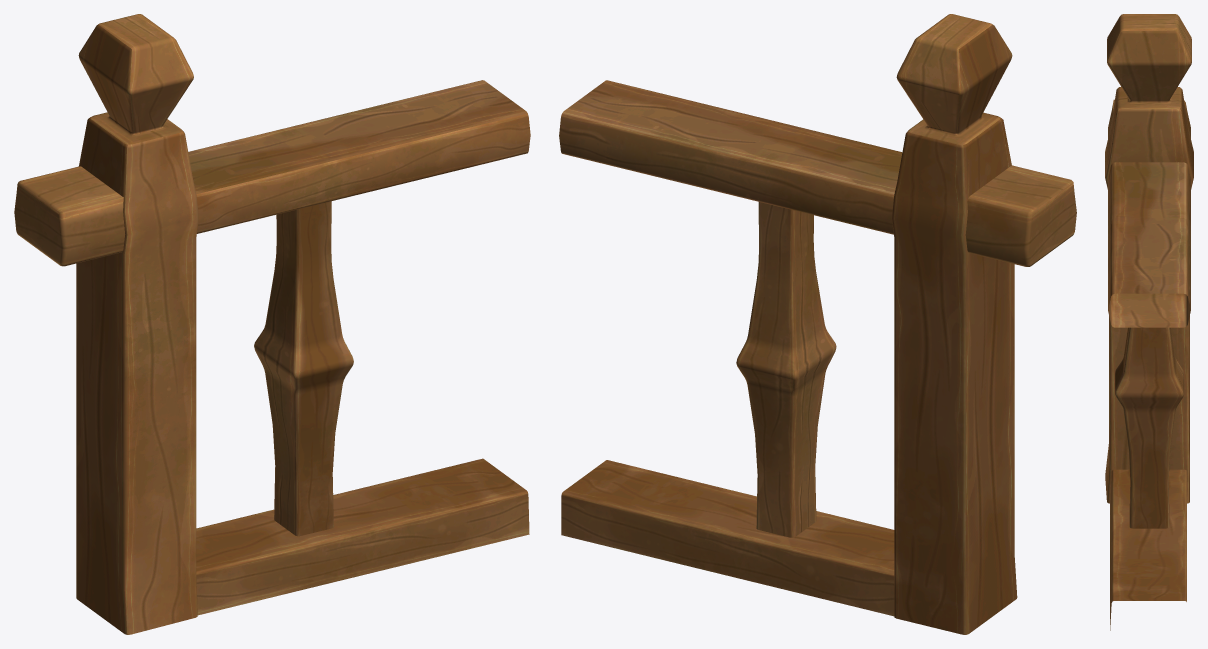
The model's file is SM_Rail_End.gltf.
The picture shows the model from 3 angles, left to right: view 1: azimuth 30°, elevation 25°; view 2: azimuth 150°, elevation 25°; view 3: azimuth 270°, elevation 25°; orthographic projection. The views are drawn at different scales.
Visible parts, largest first — view 1: SM_Rail_End; view 2: SM_Rail_End; view 3: SM_Rail_End.
Part boxes in pixels (left/top/right/bottom): SM_Rail_End: left=14, top=14, right=530, bottom=634; SM_Rail_End: left=559, top=14, right=1076, bottom=634; SM_Rail_End: left=1105, top=14, right=1193, bottom=630.
Bounding box in the file's own units: 1.16 × 1.37 × 0.236.
1 material, 1 textured.
